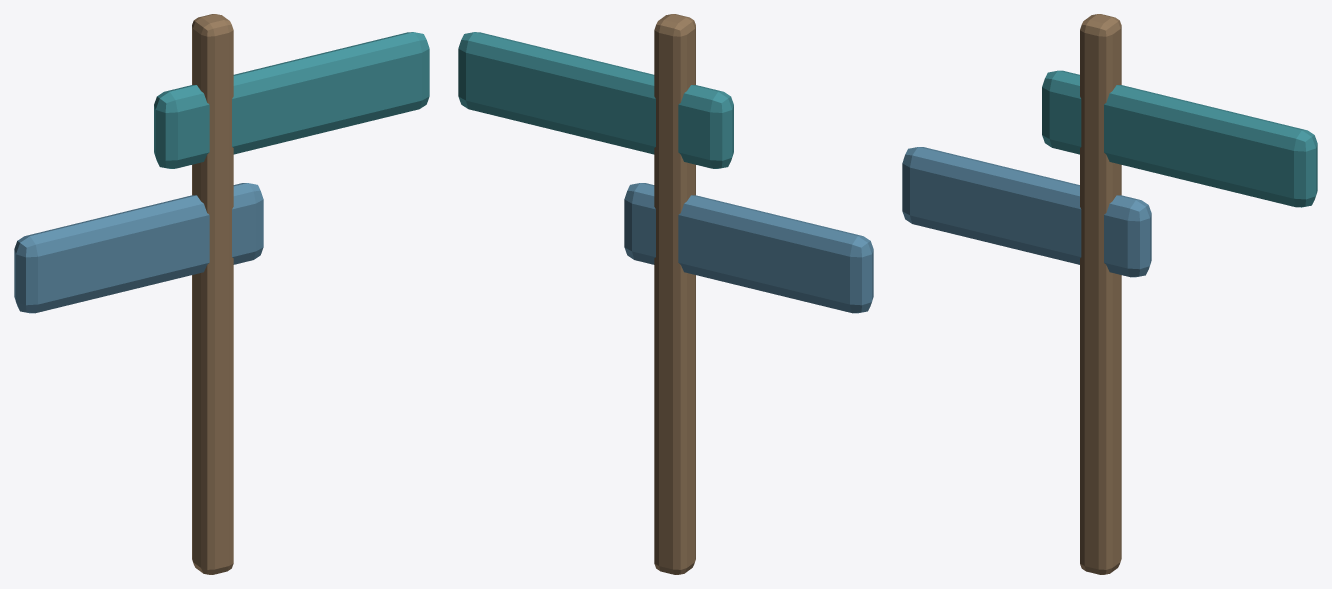
The model's file is sign_wayfinding_lod1_v2.glb.
3 views of the same model, side by side, from view 1: azimuth 30°, elevation 25°; view 2: azimuth 150°, elevation 25°; view 3: azimuth 330°, elevation 25° (orthographic).
Visible parts, largest first — view 1: LOD1_SIGN_WAYFINDING_Pole, LOD1_SIGN_WAYFINDING_ArrowA, LOD1_SIGN_WAYFINDING_ArrowB; view 2: LOD1_SIGN_WAYFINDING_Pole, LOD1_SIGN_WAYFINDING_ArrowA, LOD1_SIGN_WAYFINDING_ArrowB; view 3: LOD1_SIGN_WAYFINDING_Pole, LOD1_SIGN_WAYFINDING_ArrowA, LOD1_SIGN_WAYFINDING_ArrowB.
Boxes of the visible parts, <box> form: LOD1_SIGN_WAYFINDING_Pole: <box>192,14,233,574</box>; LOD1_SIGN_WAYFINDING_ArrowA: <box>154,32,429,168</box>; LOD1_SIGN_WAYFINDING_ArrowB: <box>14,183,263,313</box>; LOD1_SIGN_WAYFINDING_Pole: <box>654,14,695,574</box>; LOD1_SIGN_WAYFINDING_ArrowA: <box>458,32,733,168</box>; LOD1_SIGN_WAYFINDING_ArrowB: <box>624,183,873,313</box>; LOD1_SIGN_WAYFINDING_Pole: <box>1080,14,1121,574</box>; LOD1_SIGN_WAYFINDING_ArrowA: <box>1042,70,1317,207</box>; LOD1_SIGN_WAYFINDING_ArrowB: <box>902,147,1151,277</box>.
Size of what is drawn, in the model's own units: 2.35 by 3 by 0.18.
